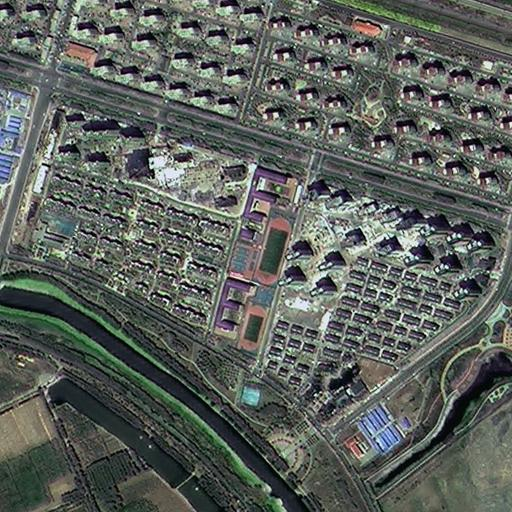school: (224, 163, 304, 286), (209, 279, 271, 354)
